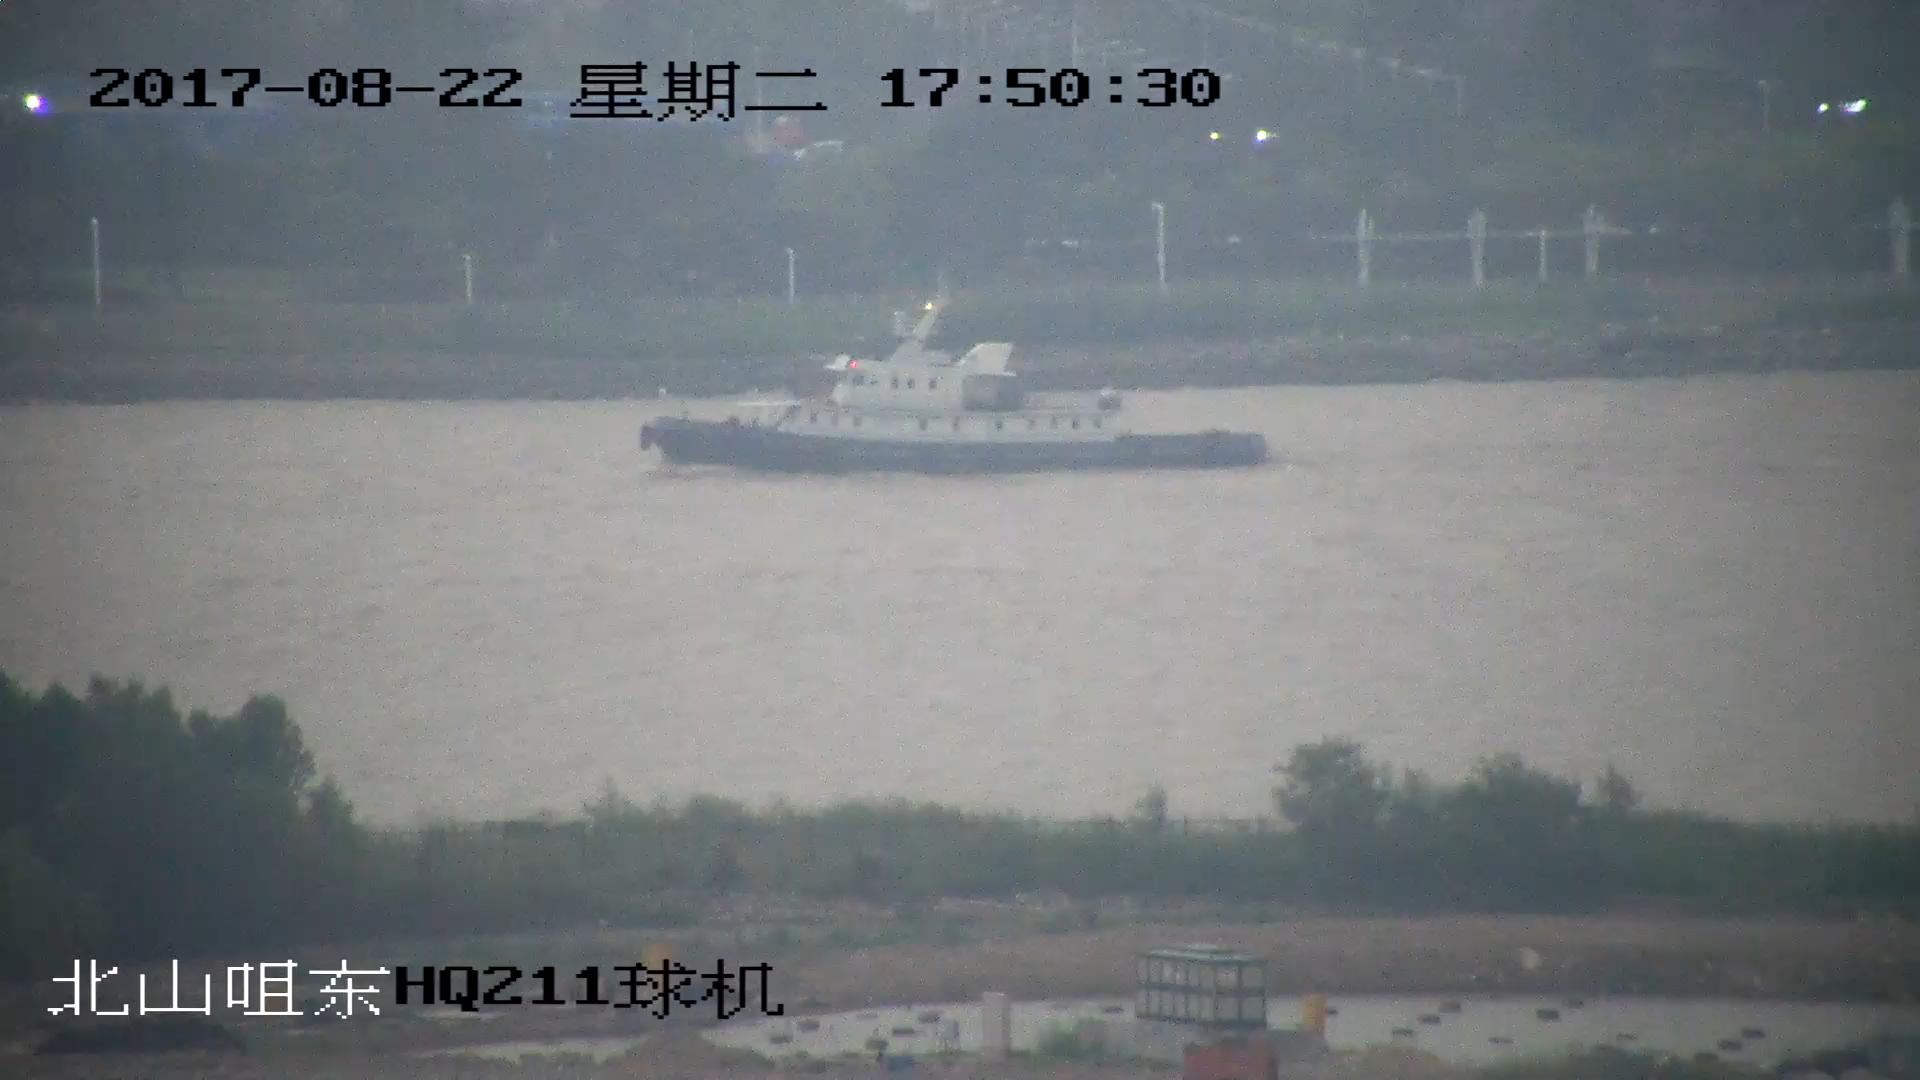passenger ship: (640, 287, 1268, 477)
